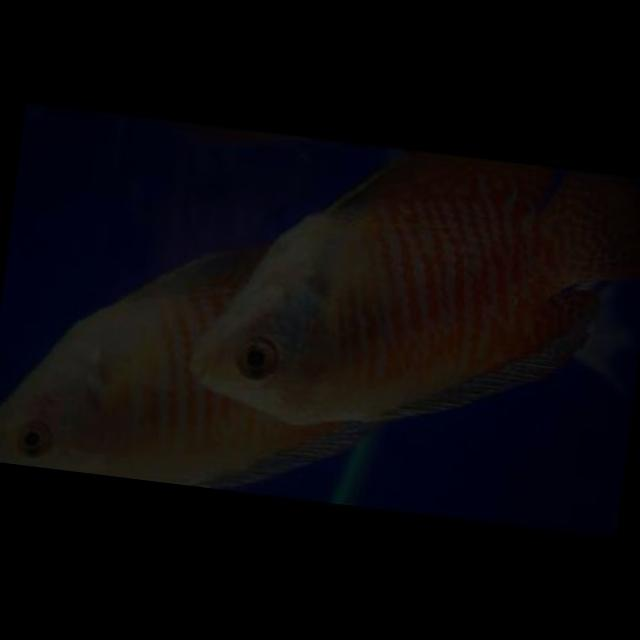Gourami: (177, 126, 640, 468)
